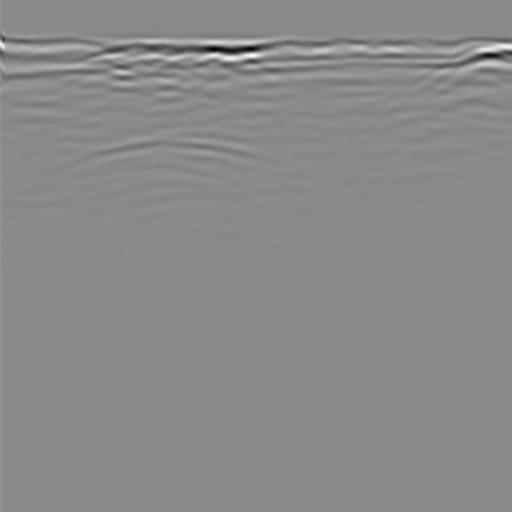hyperbola: (35, 125, 316, 220)
